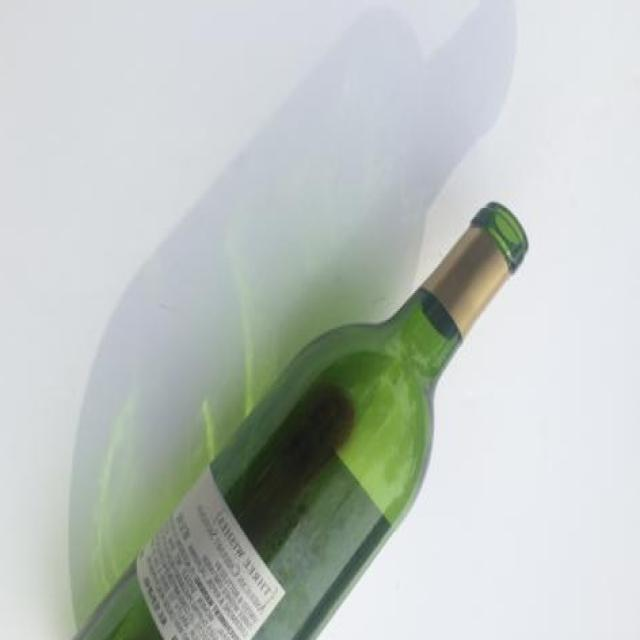chai_thuy_tinh: (73, 202, 527, 640)
